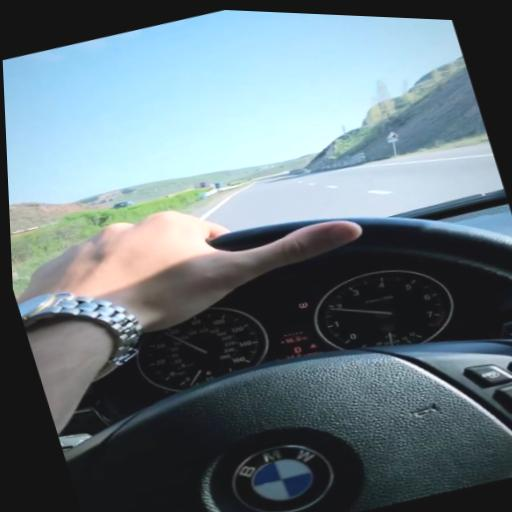Hands-on-the-Wheel: (26, 136, 424, 405)
